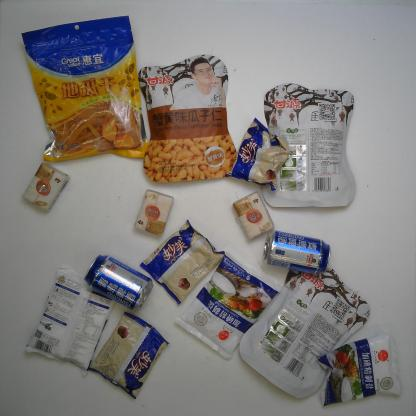Alcohol: (84, 254, 156, 314), (260, 228, 332, 280)
Dessert: (138, 217, 228, 310), (88, 308, 172, 402), (229, 113, 293, 195)
Dried Fruit: (19, 10, 155, 173), (238, 260, 374, 400), (132, 49, 246, 186), (259, 80, 359, 212)
Seasoner: (174, 250, 282, 361), (21, 262, 118, 380), (314, 327, 404, 408)
Tissue: (20, 159, 71, 215), (229, 191, 280, 241), (131, 187, 179, 239)
